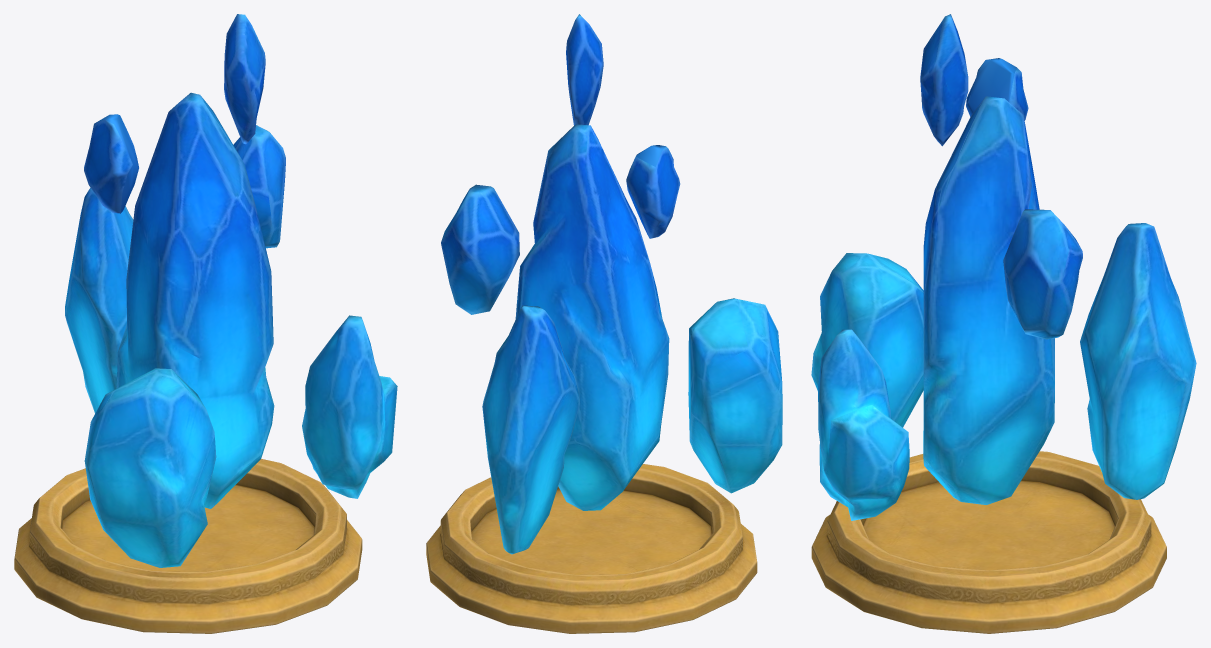
The model's file is Magic Crystal.fbx.
The picture shows the model from 3 angles, left to right: view 1: azimuth 30°, elevation 25°; view 2: azimuth 150°, elevation 25°; view 3: azimuth 270°, elevation 25°; orthographic projection. The views are drawn at different scales.
Visible parts, largest first — view 1: crystal_a1_7, PolyMesh3D_4; view 2: crystal_a1_7, PolyMesh3D_4; view 3: crystal_a1_7, PolyMesh3D_4.
Part boxes in pixels (x1,y1,x2,y2): crystal_a1_7: [65, 14, 397, 567]; PolyMesh3D_4: [14, 459, 362, 633]; crystal_a1_7: [441, 14, 782, 554]; PolyMesh3D_4: [426, 464, 757, 633]; crystal_a1_7: [811, 14, 1196, 520]; PolyMesh3D_4: [811, 451, 1166, 633].
Bounding box in the file's own units: 115 × 200 × 125.
